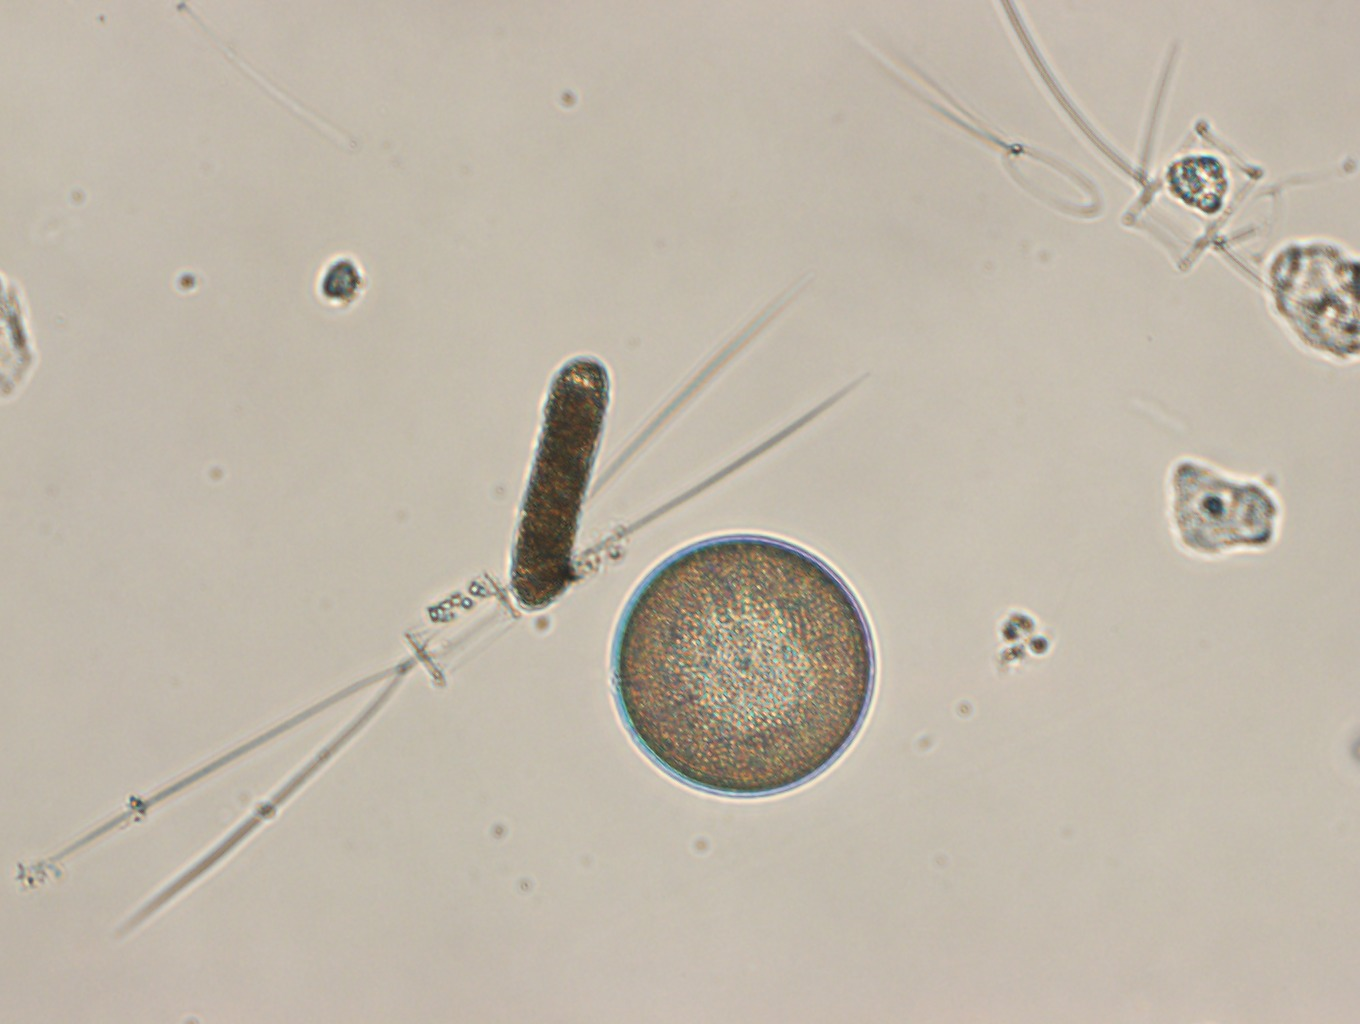chaetoceros: (41, 274, 872, 944), (1004, 1, 1360, 335), (854, 19, 1107, 225)
coscinodiscus: (604, 527, 877, 800)
